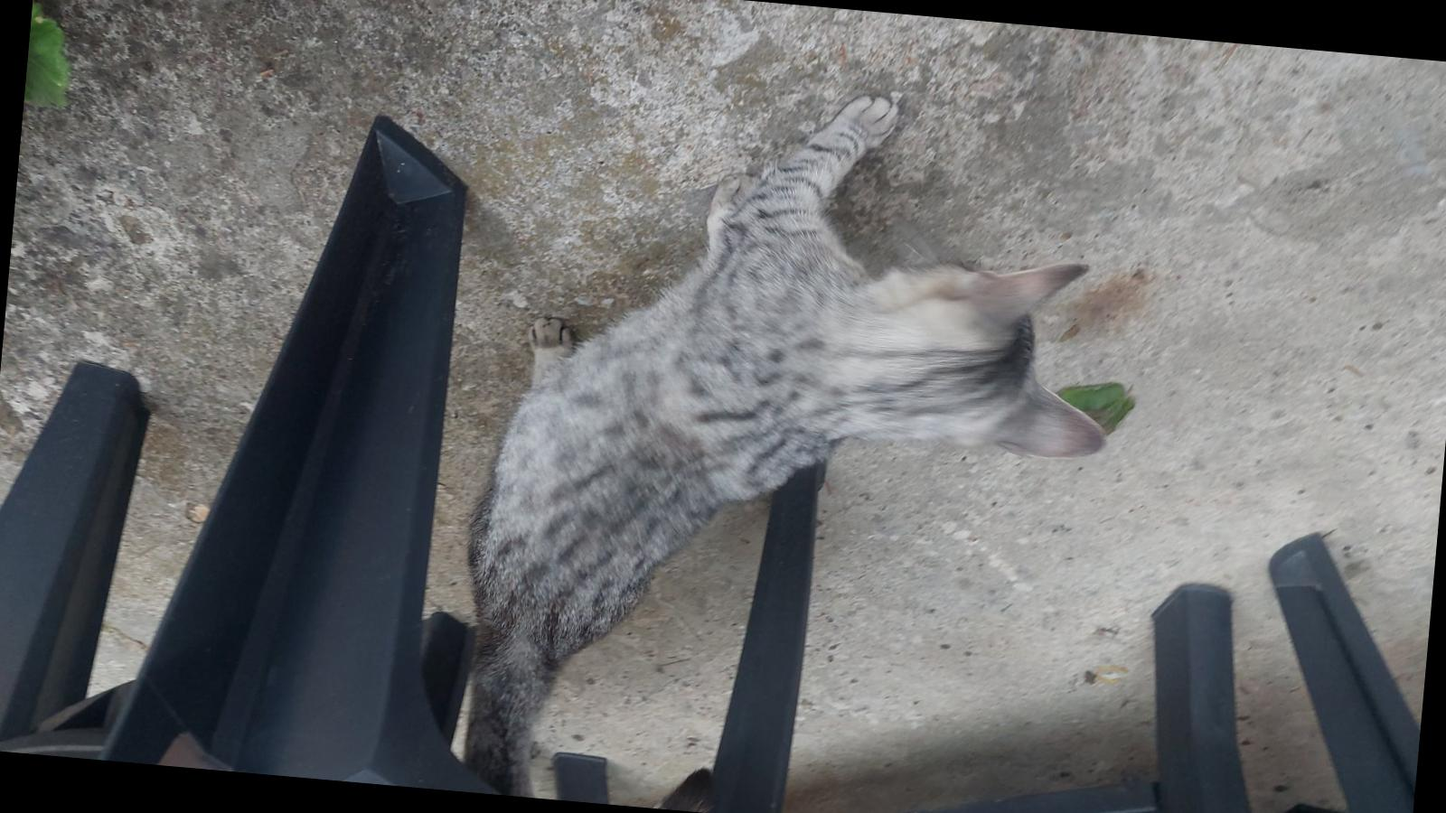macka: (401, 61, 1144, 749)
